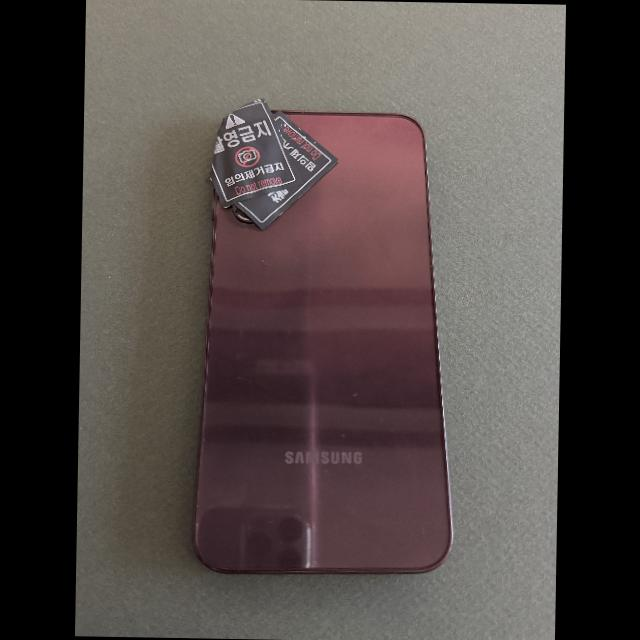phone: (193, 107, 453, 575)
sticker: (235, 108, 338, 229), (210, 98, 297, 208)
